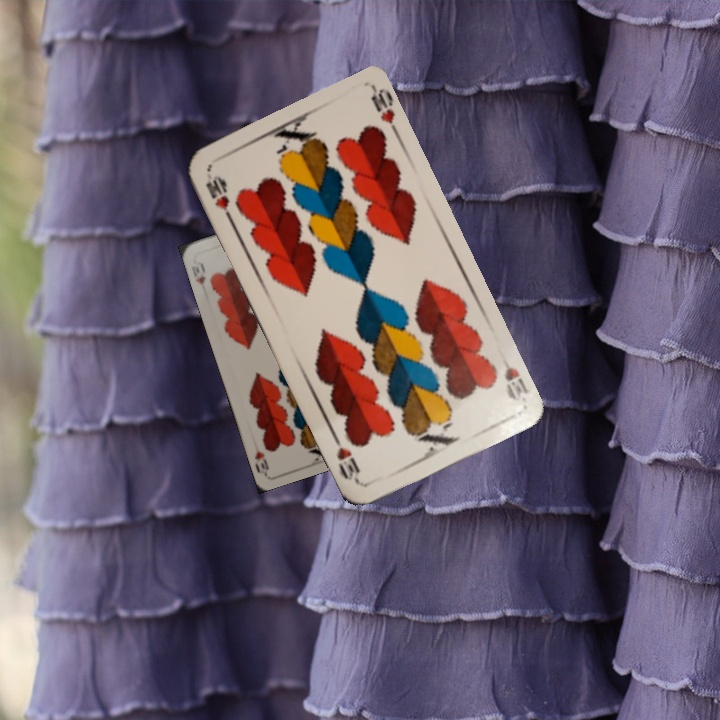H10: (496, 349, 532, 404), (201, 171, 235, 224), (188, 259, 208, 287)
